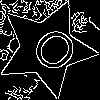O: (21, 23, 82, 84)
